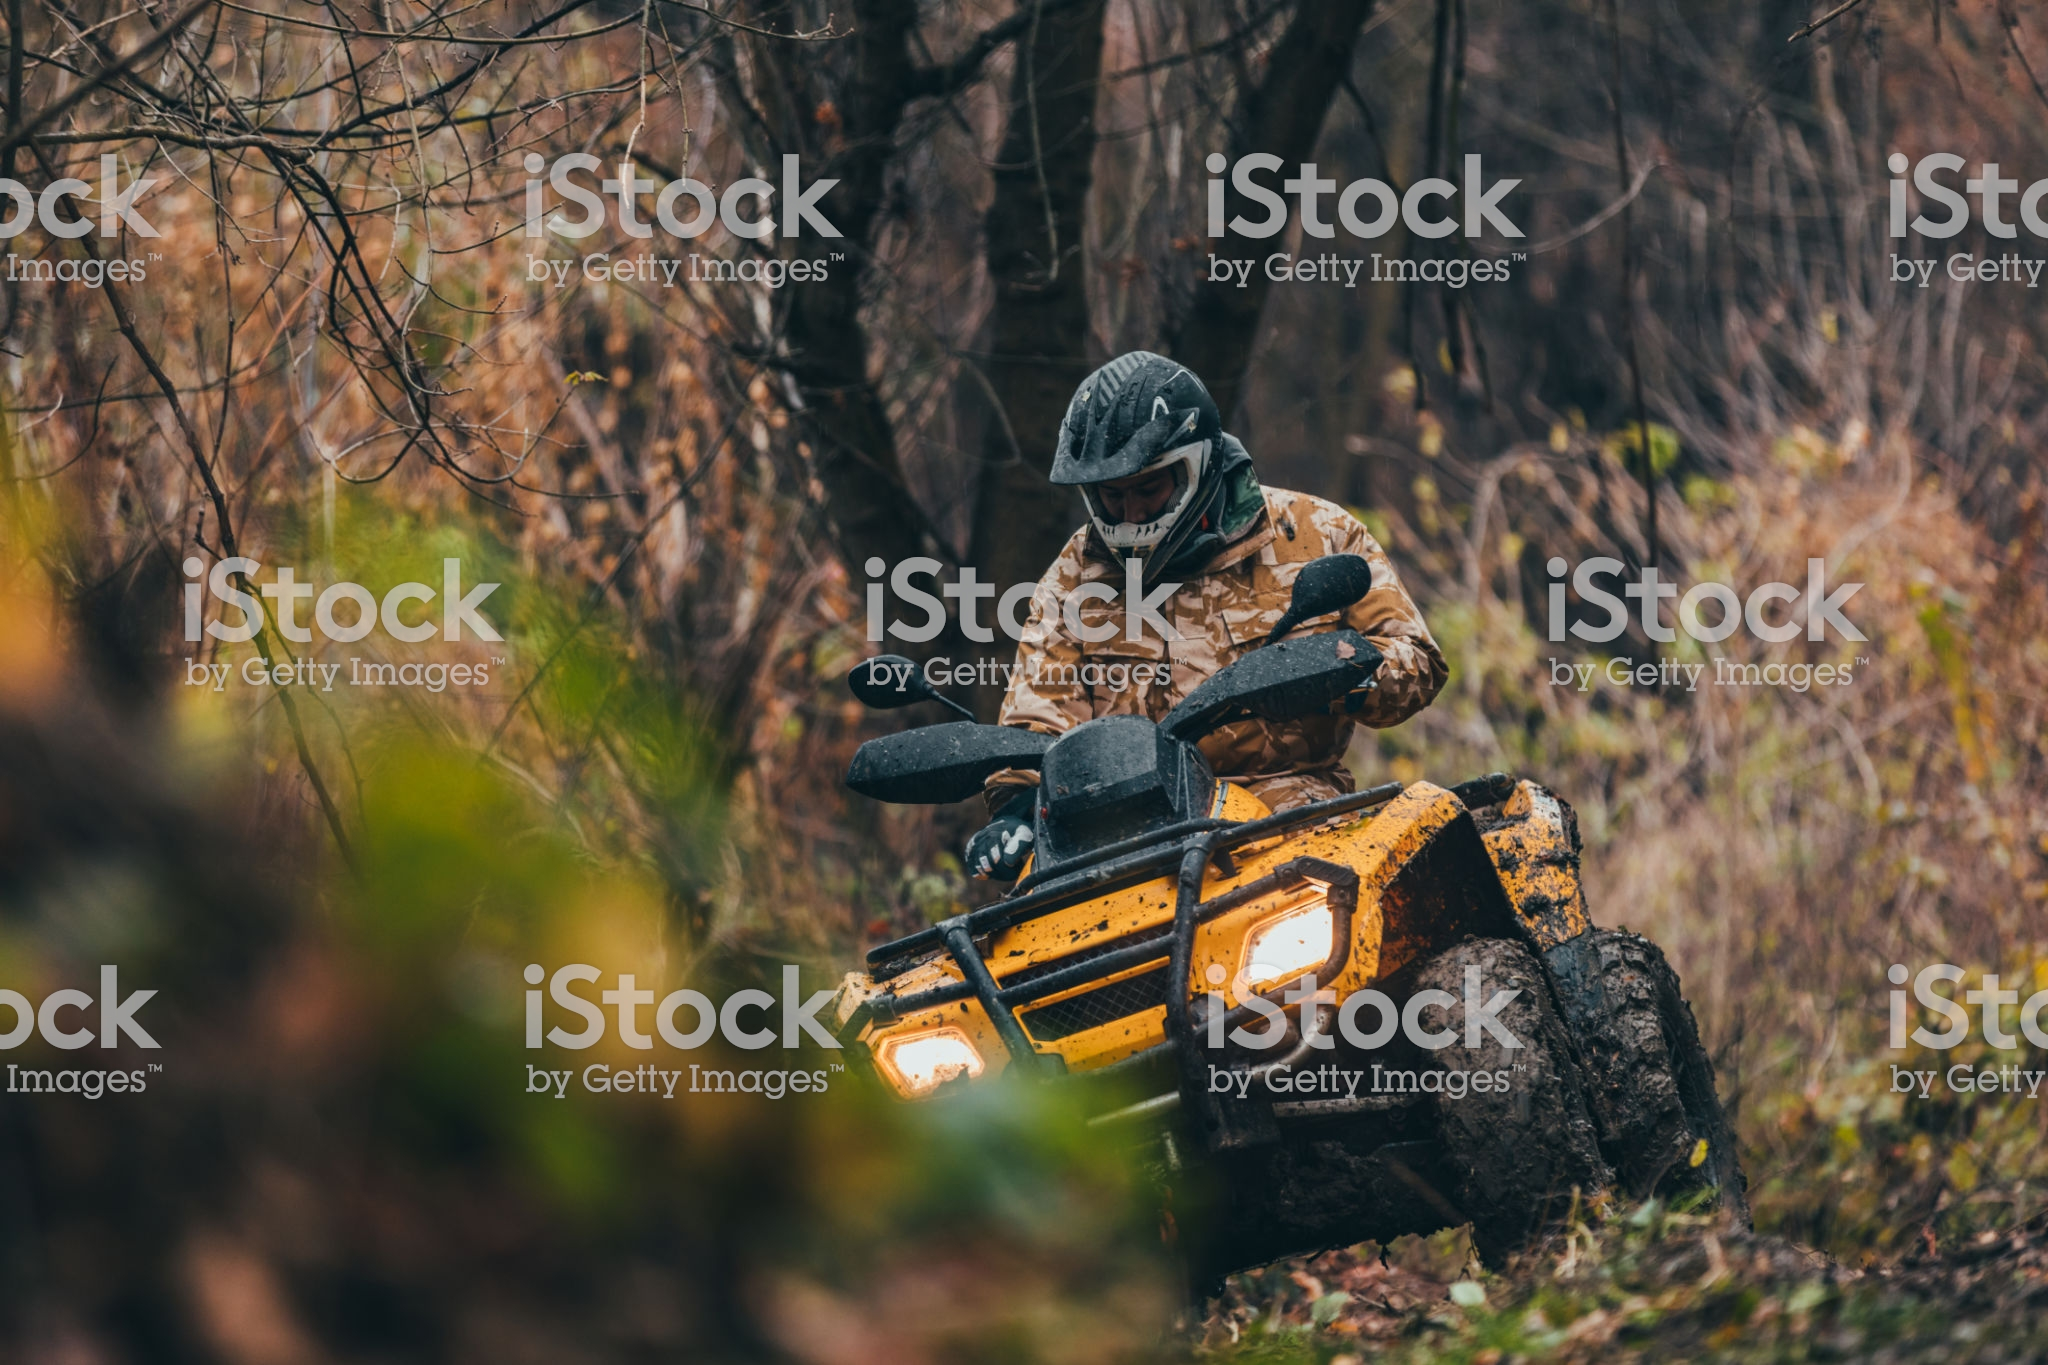helmet: (1040, 358, 1268, 564)
